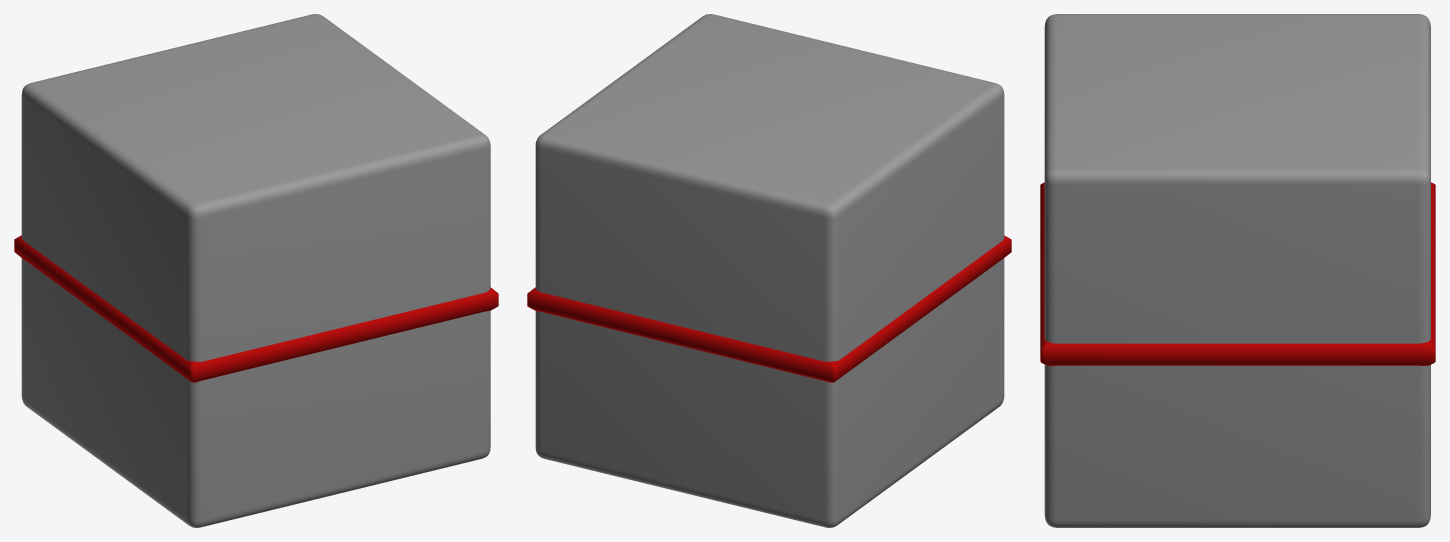
File: Model_StagesBlock_FloorDefault_Completion 1.fbx
3 renders of one model, left to right at view 1: azimuth 30°, elevation 25°; view 2: azimuth 150°, elevation 25°; view 3: azimuth 270°, elevation 25°, orthographic. The views are drawn at different scales.
Visible parts, largest first — view 1: Base; view 2: Base; view 3: Base.
Part boxes in pixels (left/top/right/bottom): Base: left=14, top=14, right=498, bottom=527; Base: left=527, top=14, right=1011, bottom=527; Base: left=1040, top=14, right=1435, bottom=527.
Size of the model in its own units: 100 by 100 by 100.
